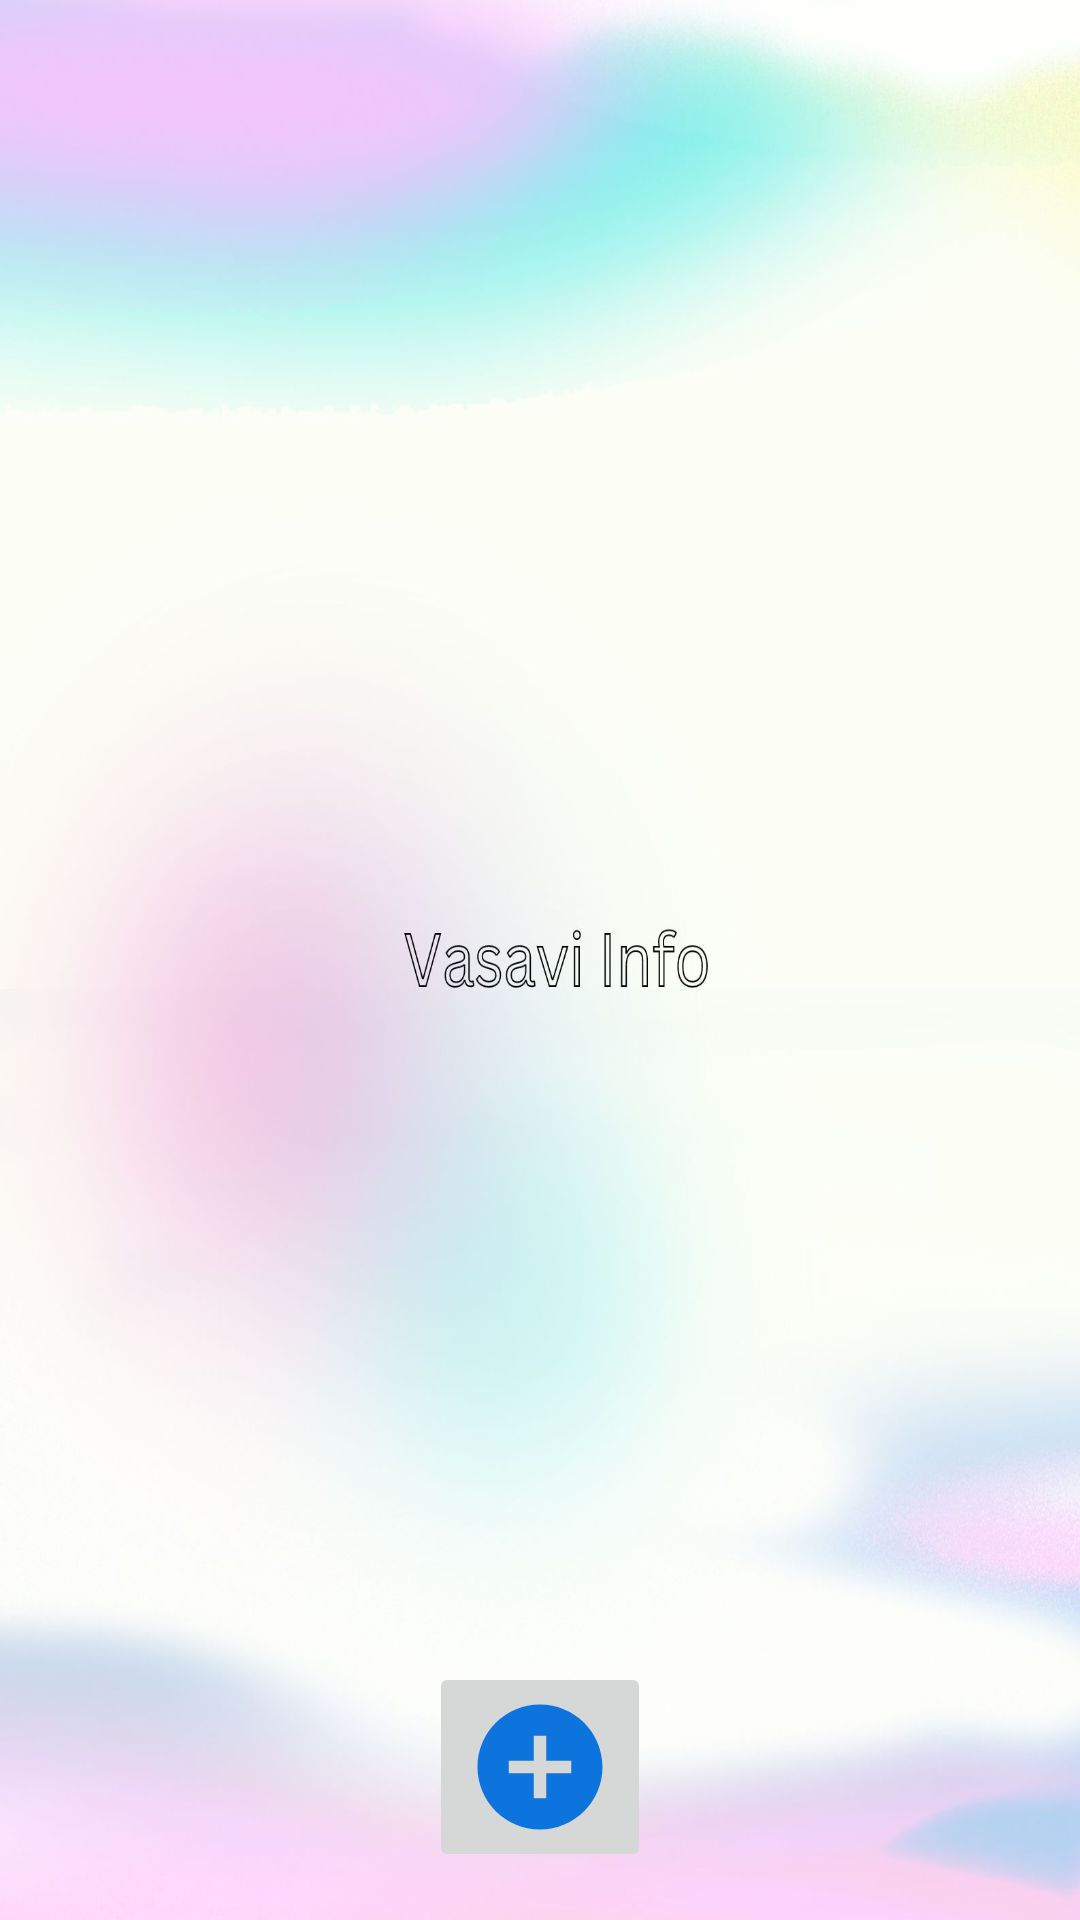

Icons on this 1080px×1920px Android screen, each with the point to tap as [x,y]:
add: [540,1767]
